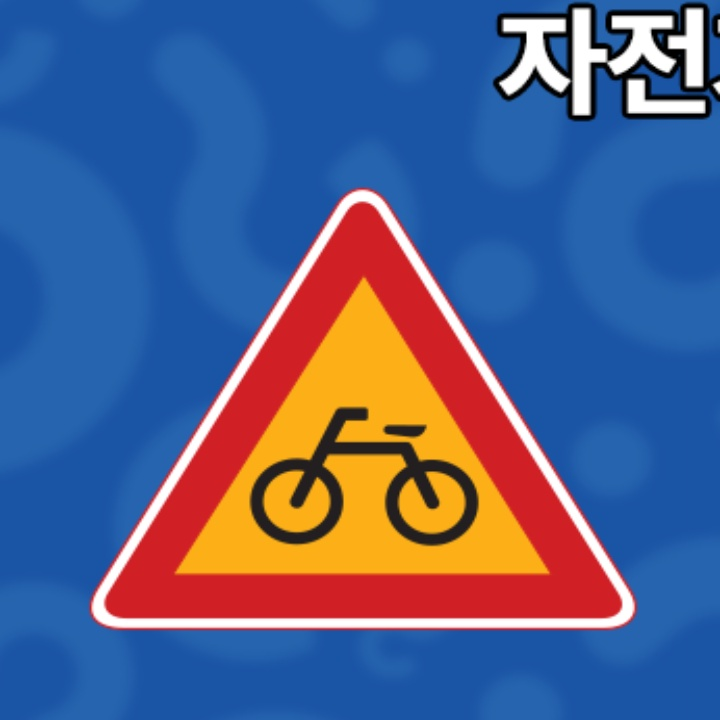bicycle: (99, 196, 623, 622)
